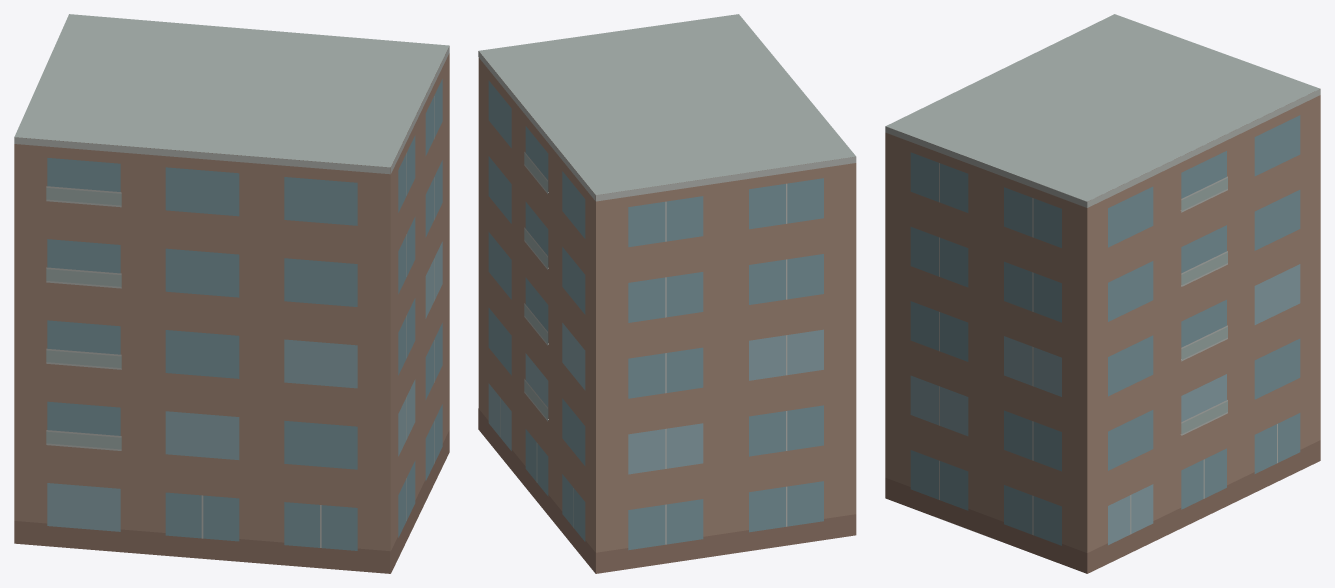
File: survey-upis-32890372.glb
The picture shows the model from 3 angles, left to right: view 1: azimuth 30°, elevation 25°; view 2: azimuth 150°, elevation 25°; view 3: azimuth 270°, elevation 25°; orthographic projection. The views are drawn at different scales.
Visible parts, largest first — view 1: survey-upis-32890372.tmp; view 2: survey-upis-32890372.tmp; view 3: survey-upis-32890372.tmp.
Part boxes in pixels (x1,y1,x2,y2): survey-upis-32890372.tmp: (14, 14, 449, 573); survey-upis-32890372.tmp: (478, 14, 856, 573); survey-upis-32890372.tmp: (885, 14, 1320, 573).
Bounding box in the file's own units: 15.7 × 14.5 × 15.37.
